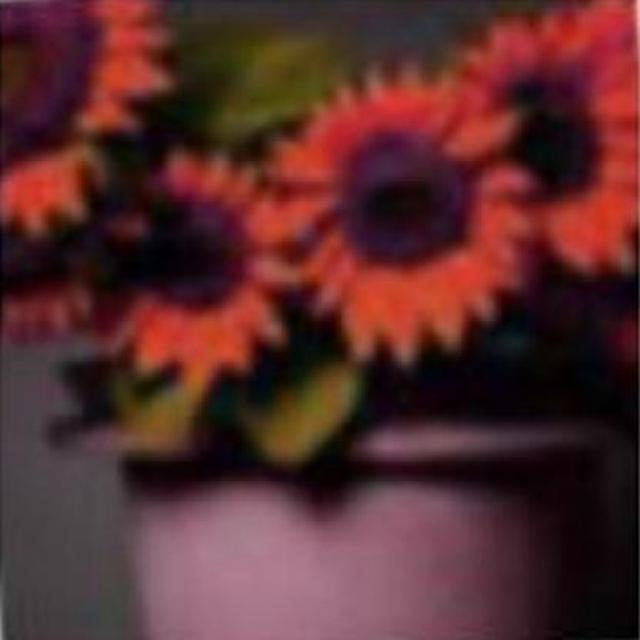sunflower: (266, 52, 544, 371), (470, 0, 639, 280), (86, 157, 292, 377)
